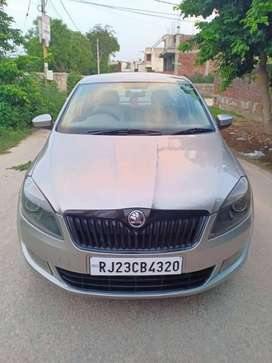RJ23CB4320: (89, 255, 183, 277)
